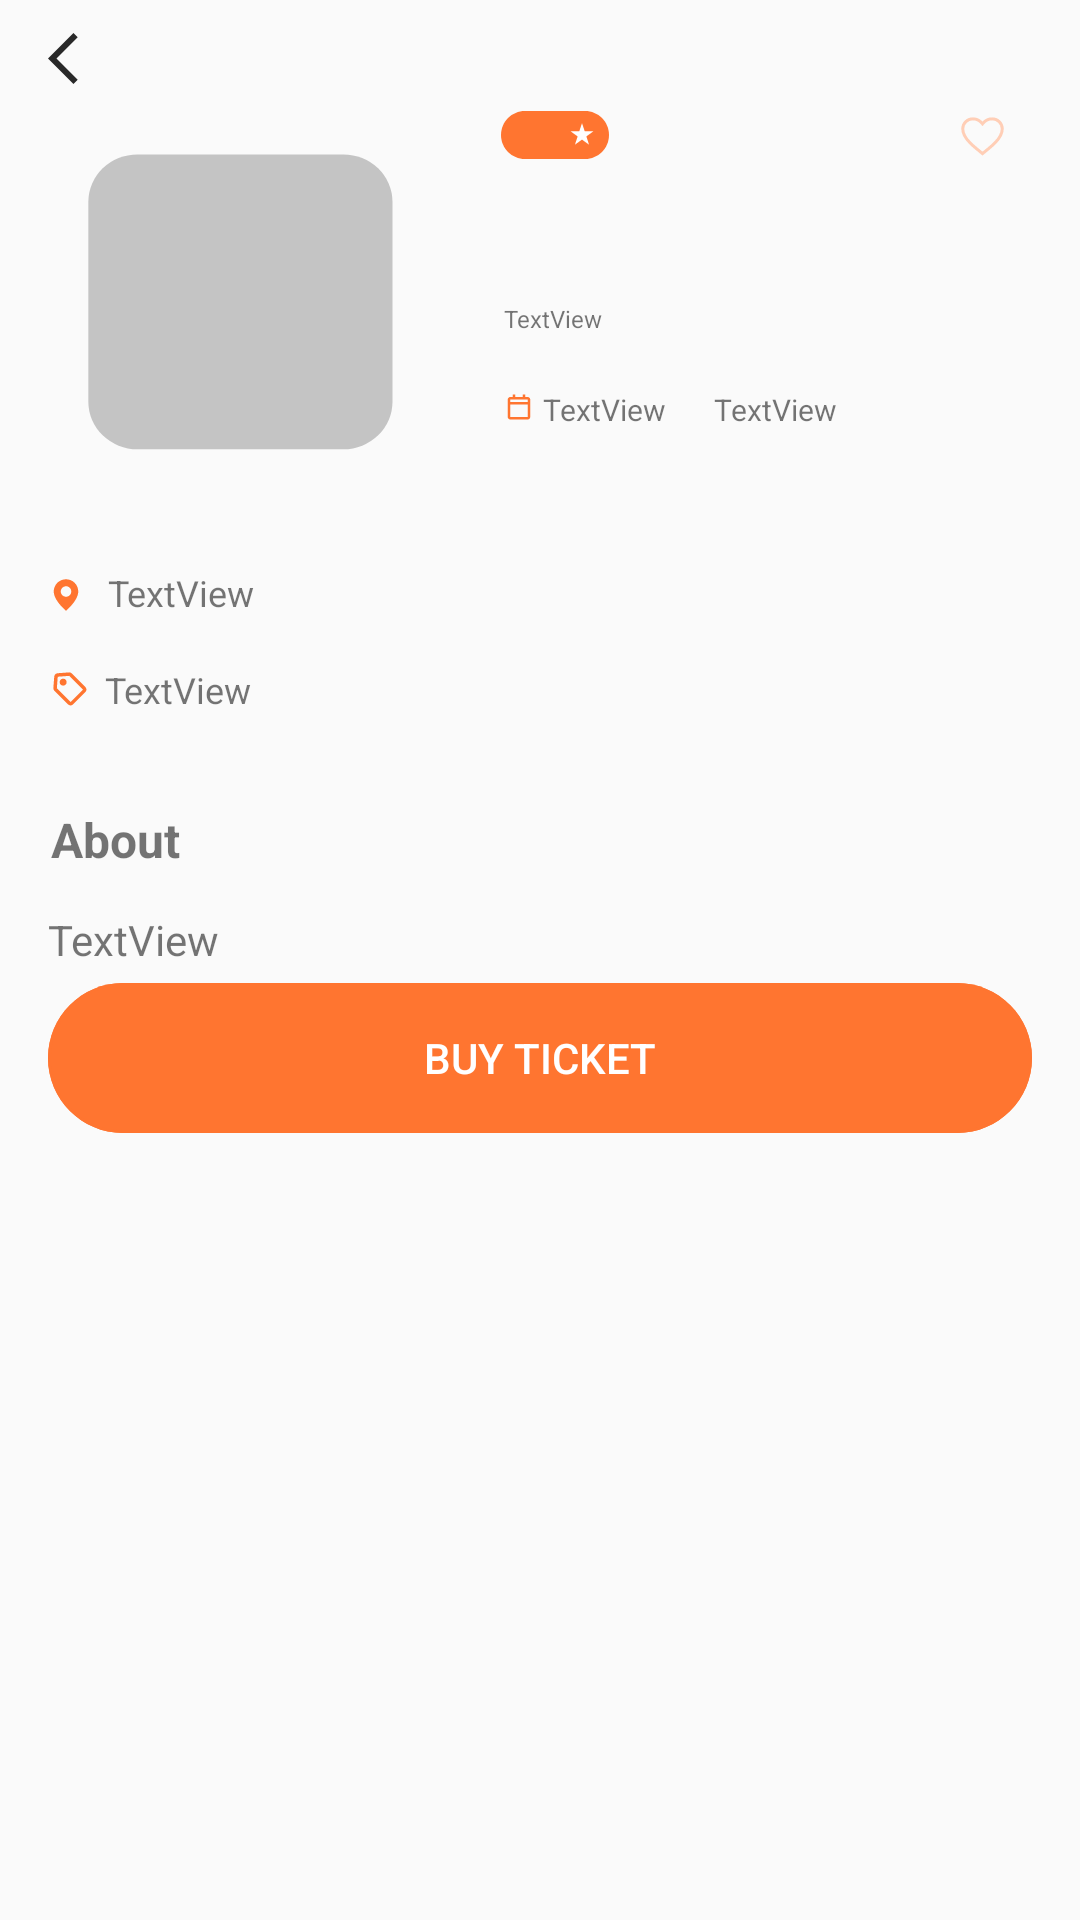

Icons on this 1080px×1920px Android screen, each with the point to tap as [x,y]:
back: [63,58]
cost item: [70,689]
date: [519,407]
loc item: [66,595]
rating back: [555,135]
saved no: [982,136]
